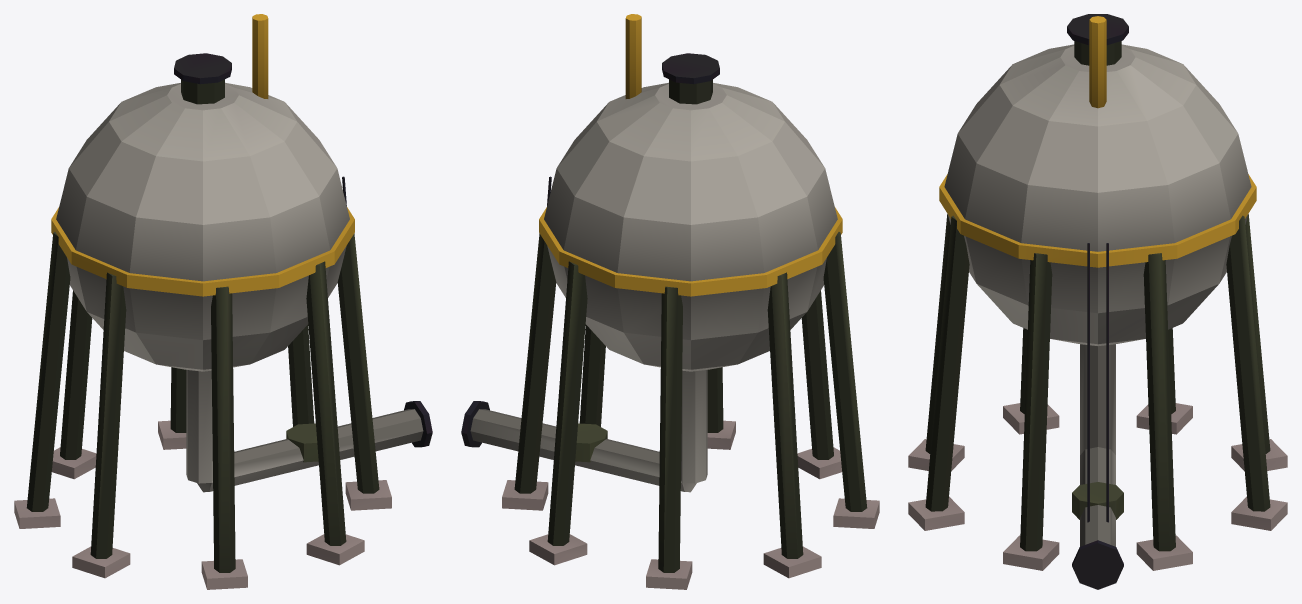
The model's file is kit.dispersal-tank-sphere.lod1.glb.
The picture shows the model from 3 angles, left to right: view 1: azimuth 30°, elevation 25°; view 2: azimuth 150°, elevation 25°; view 3: azimuth 270°, elevation 25°; orthographic projection. The views are drawn at different scales.
Parts seen in each view (by area): view 1: body; view 2: body; view 3: body.
Part boxes in pixels (x1,y1,x2,y2): body: (14, 14, 432, 589); body: (461, 14, 879, 589); body: (908, 14, 1287, 589).
Size of the model in its own units: 10.47 by 12.8 by 8.79.
